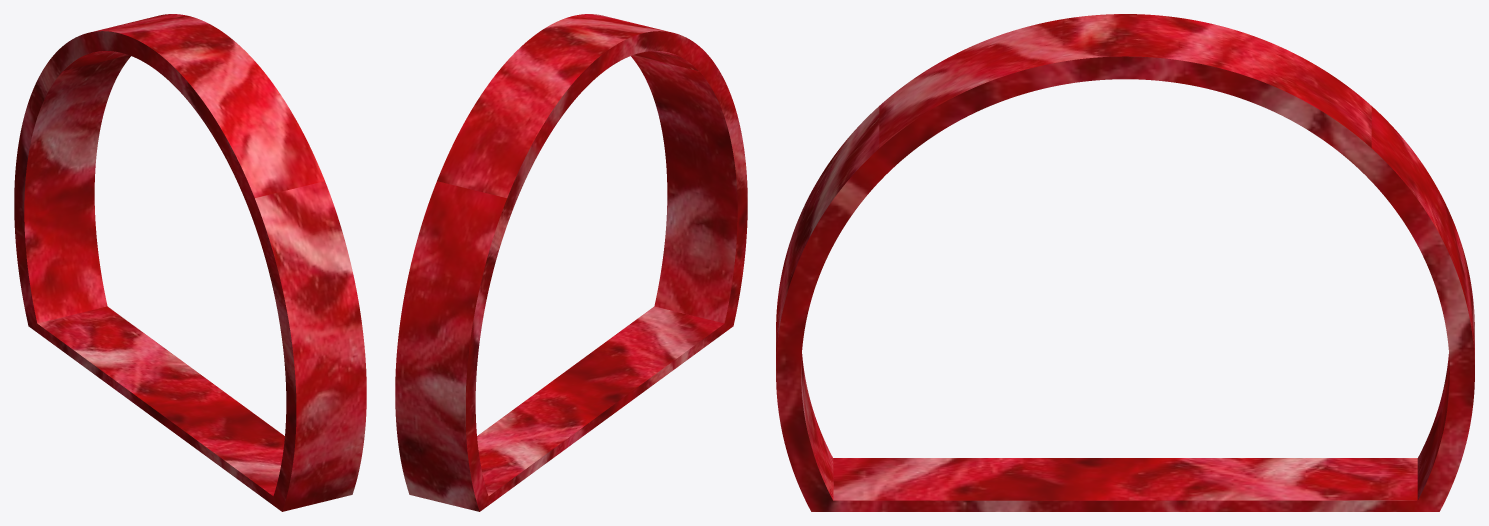
The model's file is original_gate.dae.
The picture shows the model from 3 angles, left to right: view 1: azimuth 30°, elevation 25°; view 2: azimuth 150°, elevation 25°; view 3: azimuth 270°, elevation 25°; orthographic projection. The views are drawn at different scales.
Parts seen in each view (by area): view 1: _c346b2bffa4521601c825d9; view 2: _c346b2bffa4521601c825d9; view 3: _c346b2bffa4521601c825d9.
Boxes of the visible parts, <box> form: _c346b2bffa4521601c825d9: <box>14,14,366,511</box>; _c346b2bffa4521601c825d9: <box>395,14,747,511</box>; _c346b2bffa4521601c825d9: <box>776,14,1474,511</box>.
Size of the model in its own units: 0.4 by 2.78 by 2.
